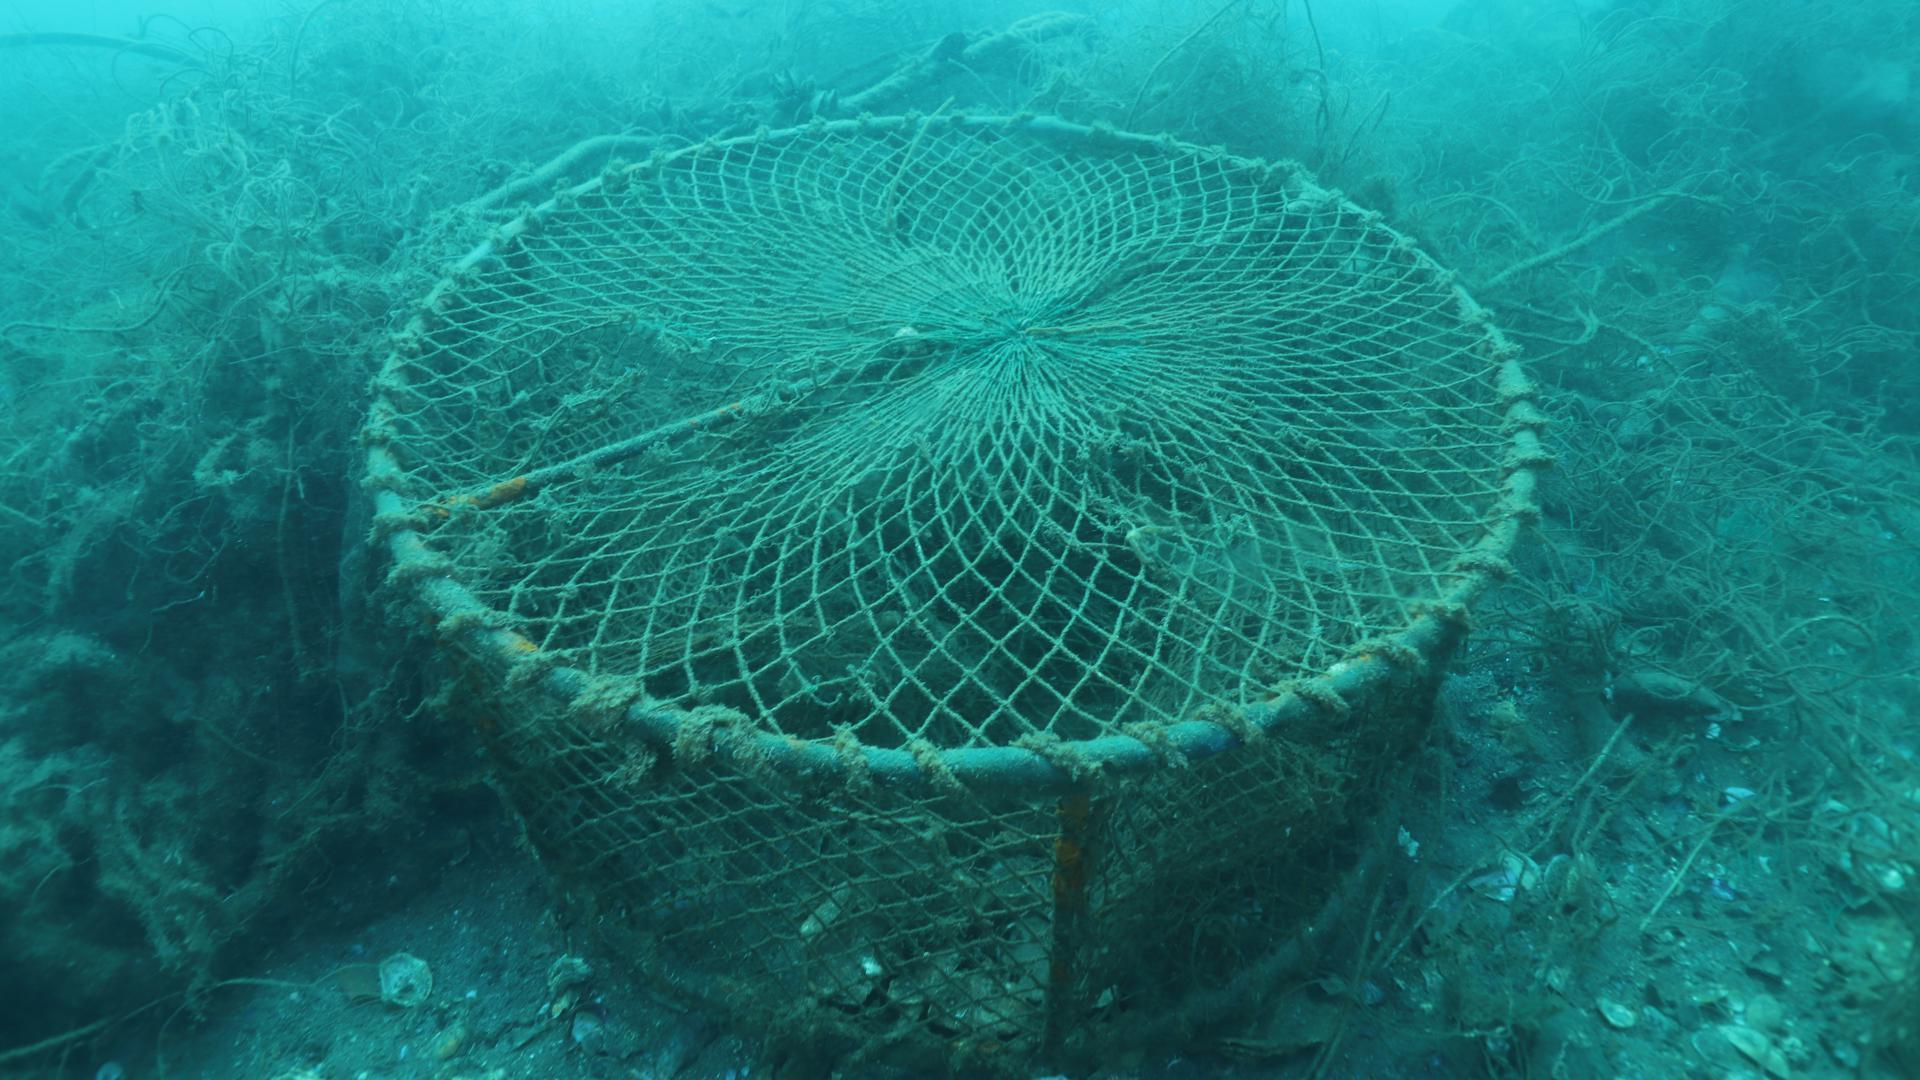circular fish trap: (363, 109, 1542, 1080)
